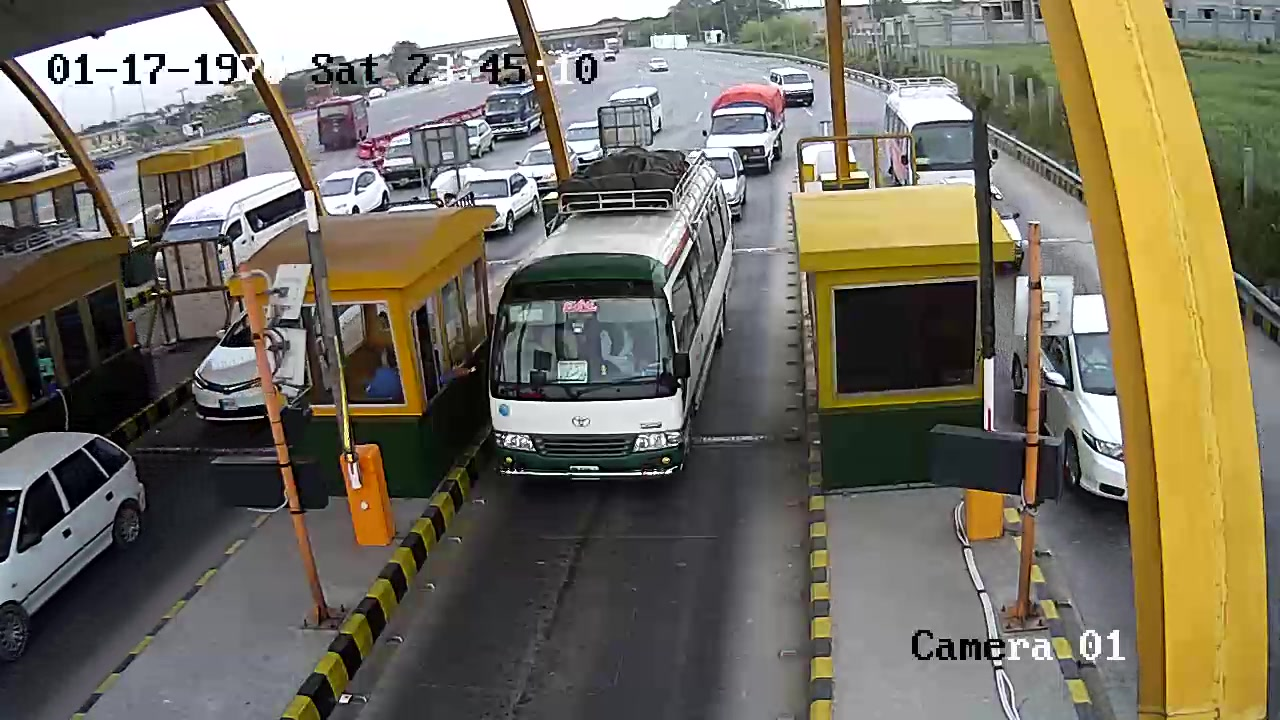F3: (486, 154, 739, 500)
